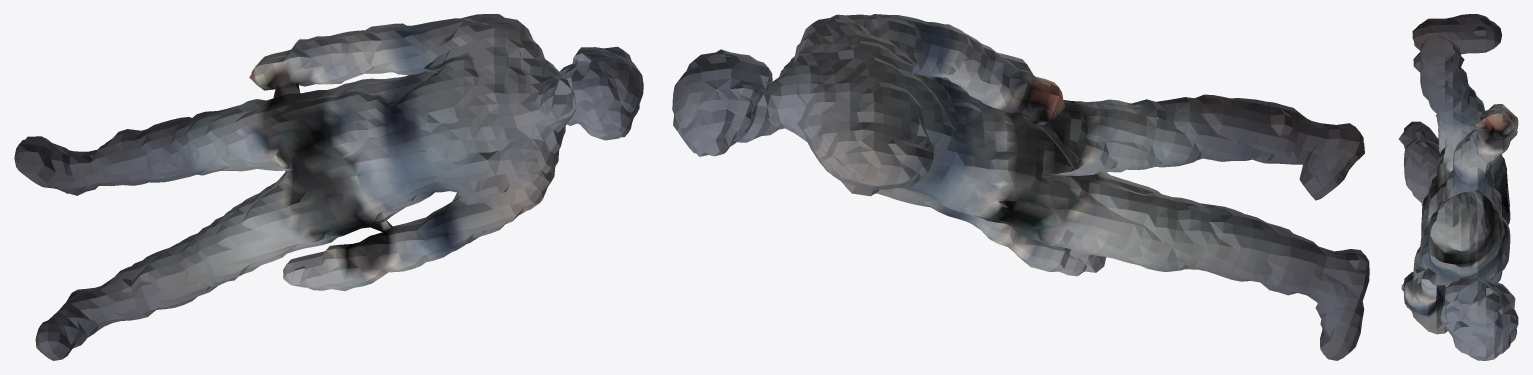
The picture shows the model from 3 angles, left to right: view 1: azimuth 30°, elevation 25°; view 2: azimuth 150°, elevation 25°; view 3: azimuth 270°, elevation 25°; orthographic projection. The views are drawn at different scales.
Visible parts, largest first — view 1: world; view 2: world; view 3: world.
Part boxes in pixels (x1=…): world: x1=14, y1=14, x2=643, y2=360; world: x1=672, y1=14, x2=1369, y2=360; world: x1=1398, y1=14, x2=1518, y2=360.
Size of the model in its own units: 0.9637 by 0.352 by 0.1998.
